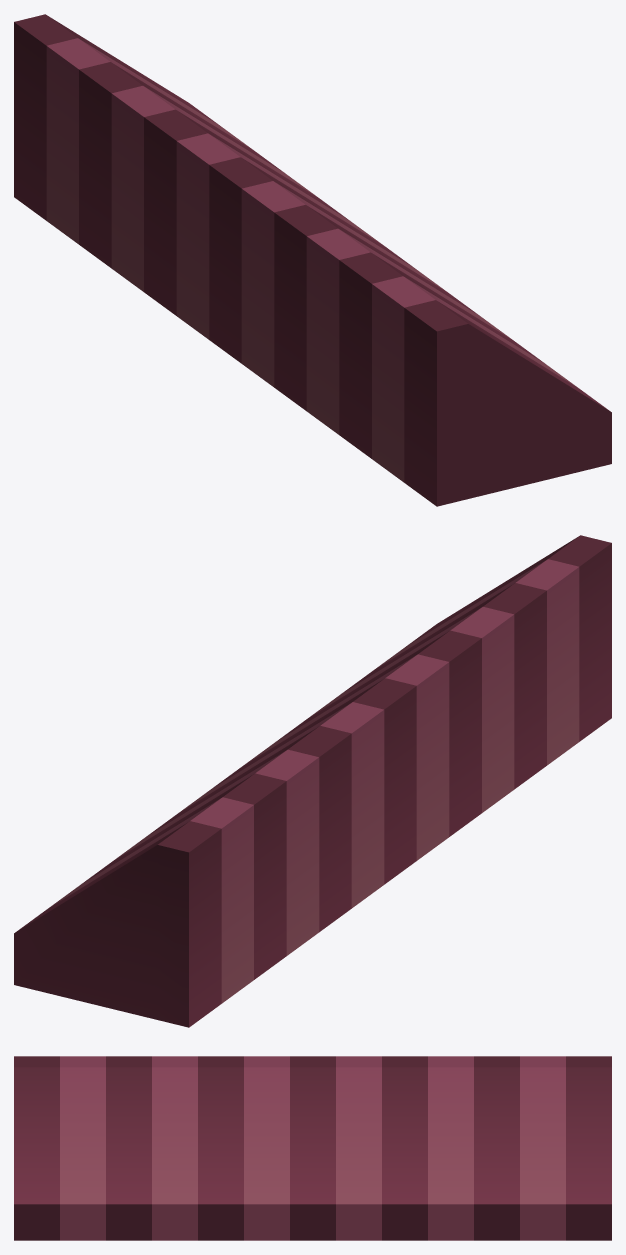
File: cutepack2023largeawning.fbx
The picture shows the model from 3 angles, top to bottom: view 1: azimuth 30°, elevation 25°; view 2: azimuth 150°, elevation 25°; view 3: azimuth 270°, elevation 25°; orthographic projection. The views are drawn at different scales.
Parts seen in each view (by area): view 1: Plane.003; view 2: Plane.003; view 3: Plane.003.
Part boxes in pixels (bbox=[...]): Plane.003: bbox=[14, 14, 611, 506]; Plane.003: bbox=[14, 535, 611, 1027]; Plane.003: bbox=[14, 1056, 611, 1240].
Size of the model in its own units: 188 by 180 by 787.
